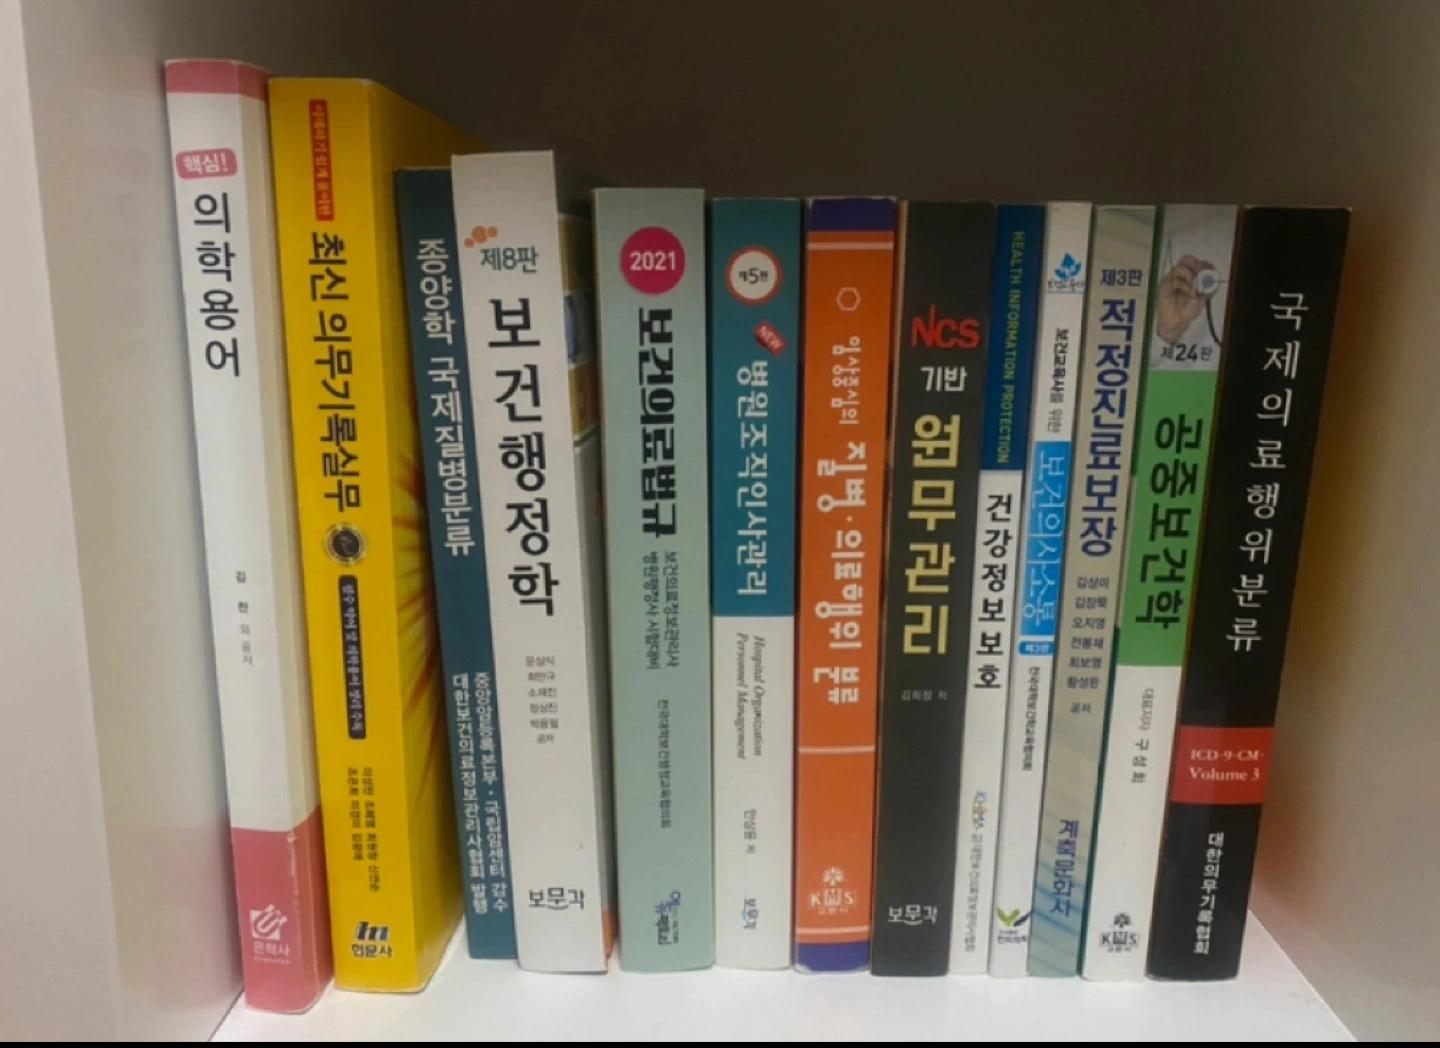book: (265, 74, 486, 997), (162, 56, 335, 1017), (1143, 204, 1352, 985), (868, 199, 997, 979), (590, 186, 712, 975), (792, 195, 898, 978), (708, 197, 802, 973)
